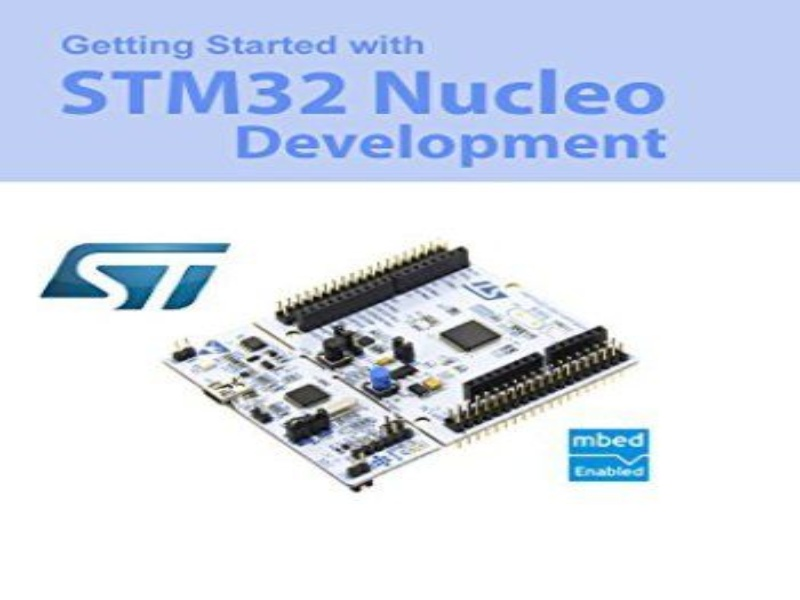stmnucleo: (177, 242, 661, 496)
